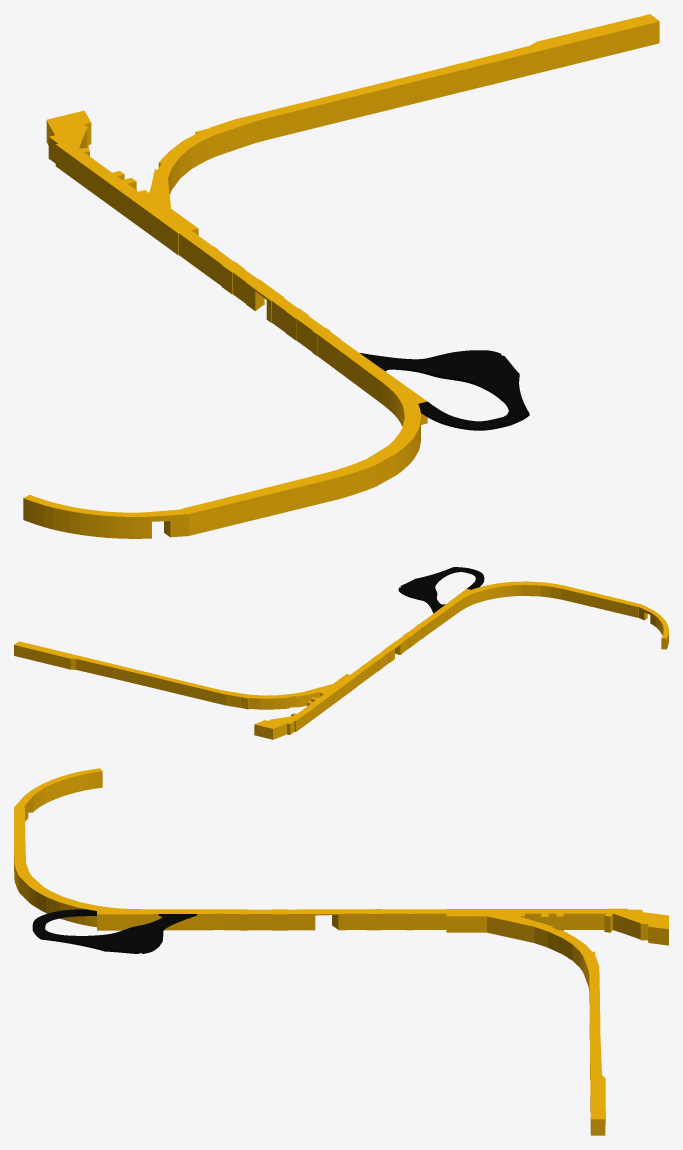
File: highline.glb
The picture shows the model from 3 angles, top to bottom: view 1: azimuth 30°, elevation 25°; view 2: azimuth 150°, elevation 25°; view 3: azimuth 270°, elevation 25°; orthographic projection. The views are drawn at different scales.
Visible parts, largest first — view 1: -7141751, object 1; view 2: -7141751, object 1; view 3: -7141751, object 1.
Part boxes in pixels (left/top/right/bottom): -7141751: left=23, top=14, right=659, bottom=538; object 1: left=360, top=350, right=529, bottom=430; -7141751: left=14, top=581, right=668, bottom=739; object 1: left=398, top=567, right=484, bottom=613; -7141751: left=14, top=768, right=668, bottom=1135; object 1: left=32, top=909, right=196, bottom=953.
Size of the model in its own units: 685 by 14.85 by 540.
